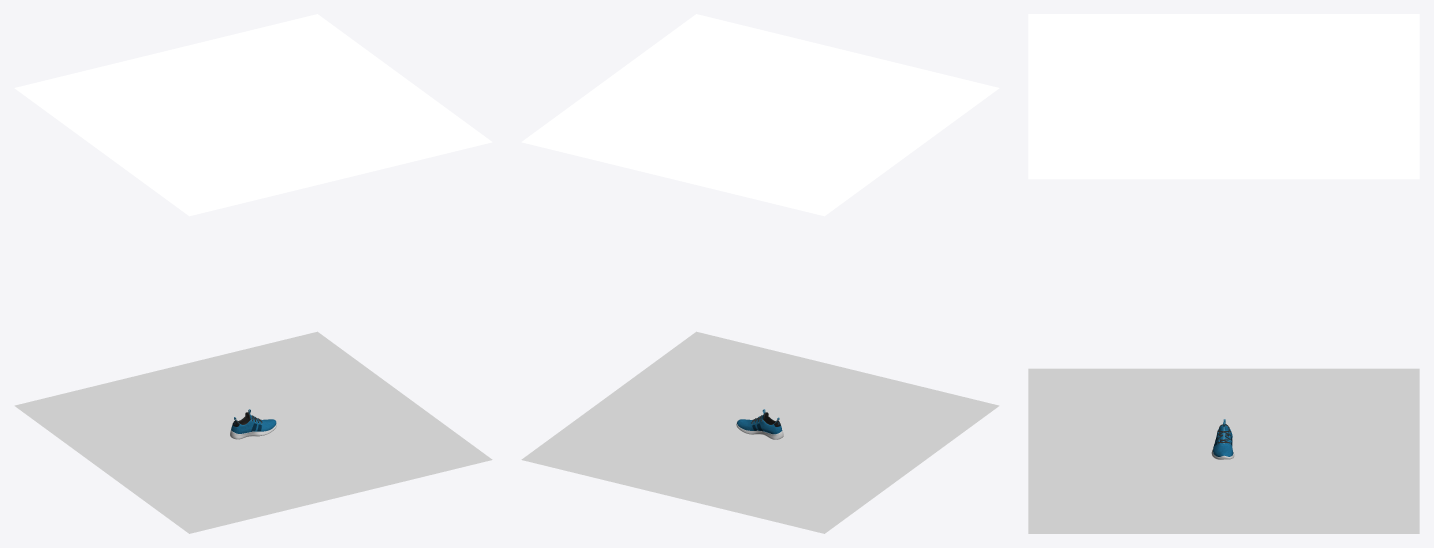
File: shoe.gltf
3 renders of one model, left to right at view 1: azimuth 30°, elevation 25°; view 2: azimuth 150°, elevation 25°; view 3: azimuth 270°, elevation 25°, orthographic. The views are drawn at different scales.
Visible parts, largest first — view 1: AreaLight, Plane, Shoe; view 2: AreaLight, Plane, Shoe; view 3: AreaLight, Plane, Shoe.
Part boxes in pixels (x1,y1,x2,y2): AreaLight: (14,14,492,216); Plane: (14,331,492,533); Shoe: (230,409,276,439); AreaLight: (521,14,999,216); Plane: (521,331,999,533); Shoe: (736,409,783,439); AreaLight: (1028,14,1419,179); Plane: (1028,368,1419,533); Shoe: (1211,419,1234,459).
Bounding box in the file's own units: 2 × 2 × 2.
Materials: 3 (1 with a texture image).
